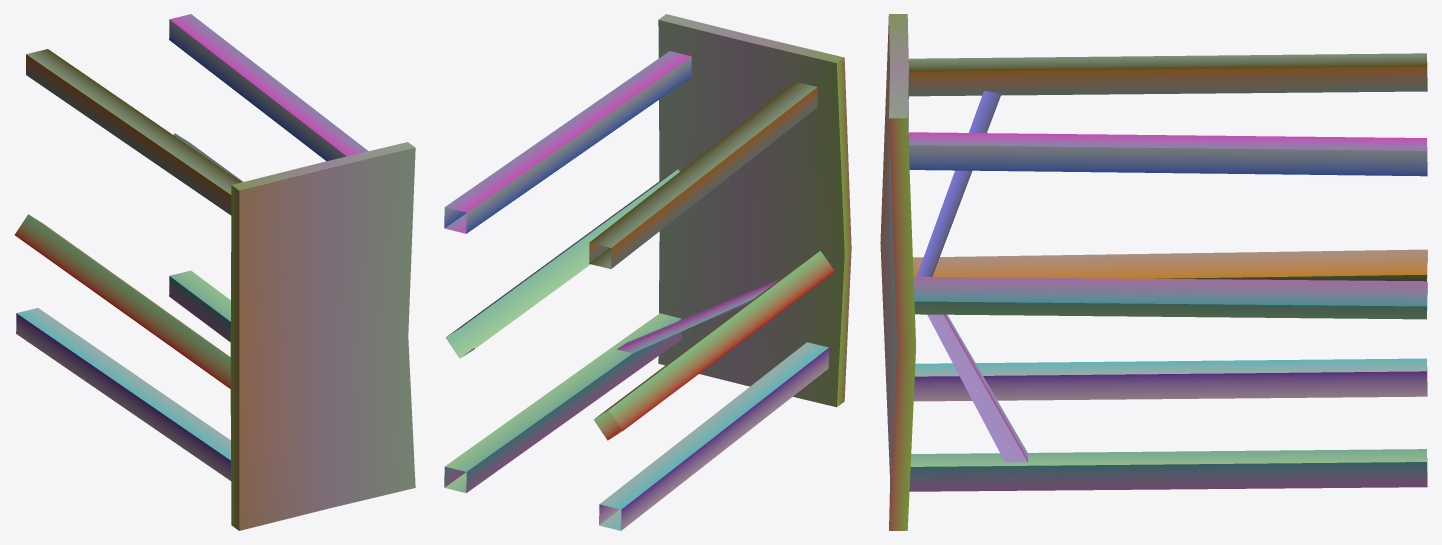
Rendered from Dock_A_lod1.glb.
3 renders of one model, left to right at view 1: azimuth 30°, elevation 25°; view 2: azimuth 150°, elevation 25°; view 3: azimuth 270°, elevation 25°, orthographic. The views are drawn at different scales.
Visible parts, largest first — view 1: MeshNode_0; view 2: MeshNode_0; view 3: MeshNode_0.
Part boxes in pixels (x1,y1,x2,y2): MeshNode_0: [14, 14, 415, 530]; MeshNode_0: [444, 14, 851, 530]; MeshNode_0: [880, 14, 1427, 530].
Bounding box in the file's own units: 4.61 × 8.29 × 9.97.
